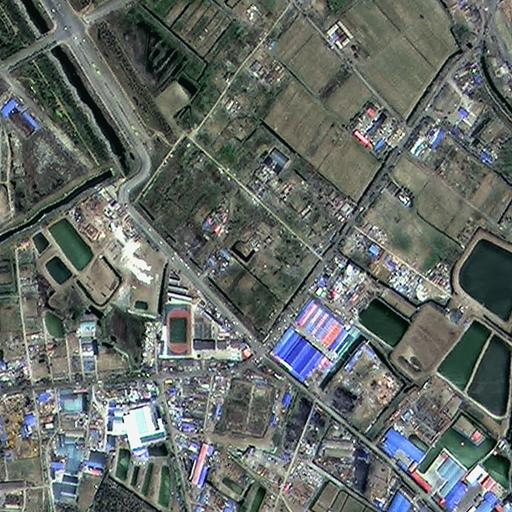school: (162, 301, 245, 364)
